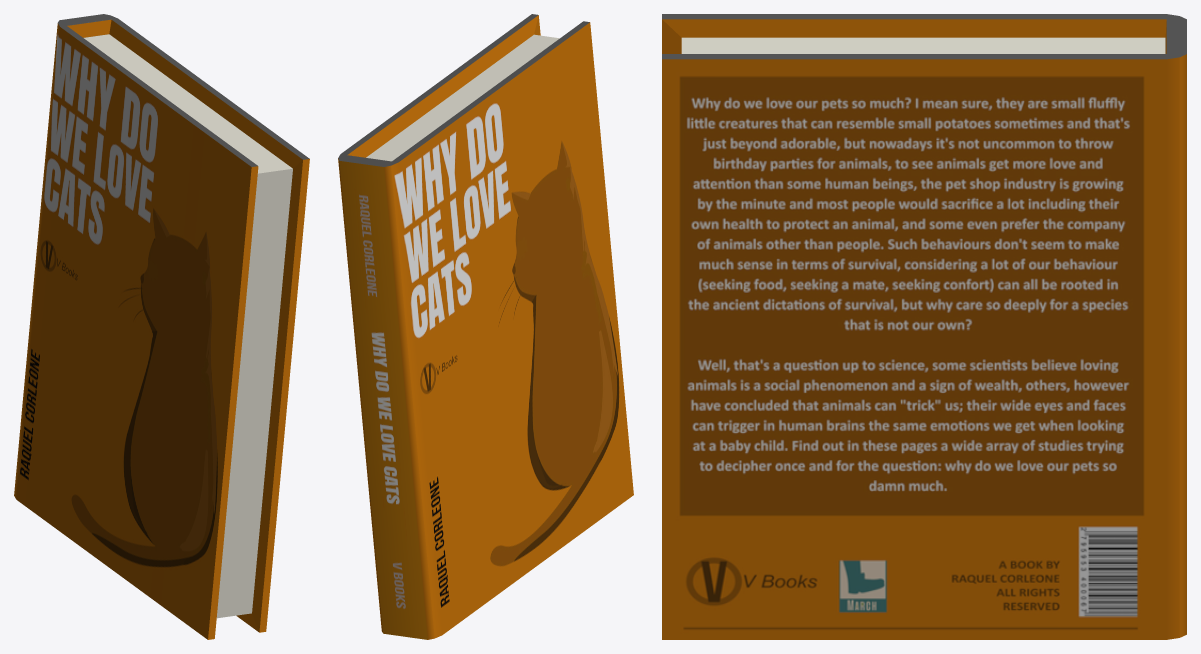
The model's file is Book4.fbx.
3 views of the same model, side by side, from view 1: azimuth 30°, elevation 25°; view 2: azimuth 150°, elevation 25°; view 3: azimuth 270°, elevation 25° (orthographic). The views are drawn at different scales.
Visible parts, largest first — view 1: pCube269; view 2: pCube269; view 3: pCube269.
Boxes of the visible parts, <box> form: pCube269: <box>14,14,309,639</box>; pCube269: <box>338,14,633,639</box>; pCube269: <box>662,14,1186,639</box>.
Bounding box in the file's own units: 0.0531 × 0.2331 × 0.1798.
